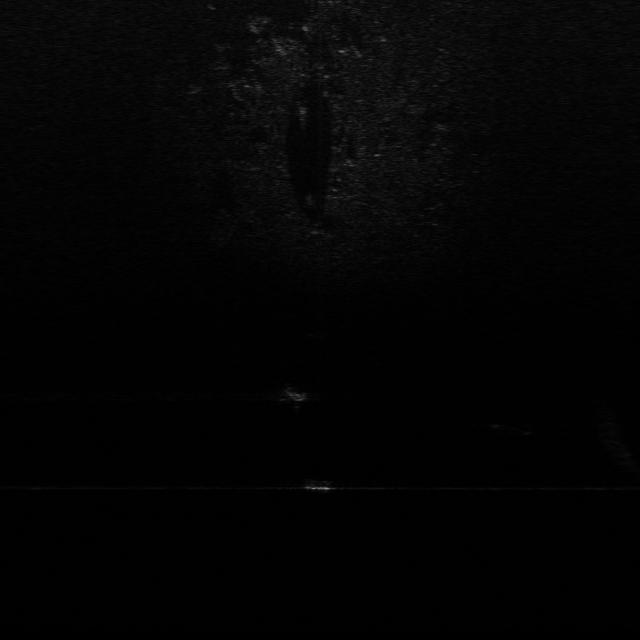cube: (300, 476, 336, 496)
square cage: (277, 380, 314, 404)
tyre: (483, 407, 539, 439)
